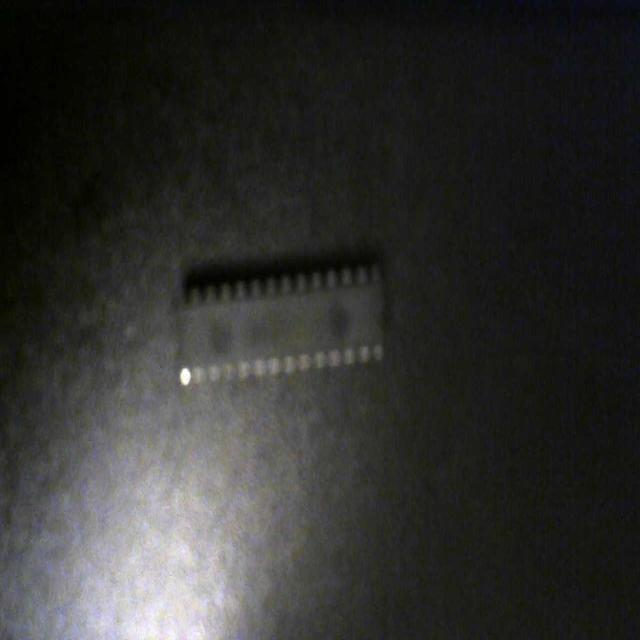atmega: (175, 248, 390, 395)
